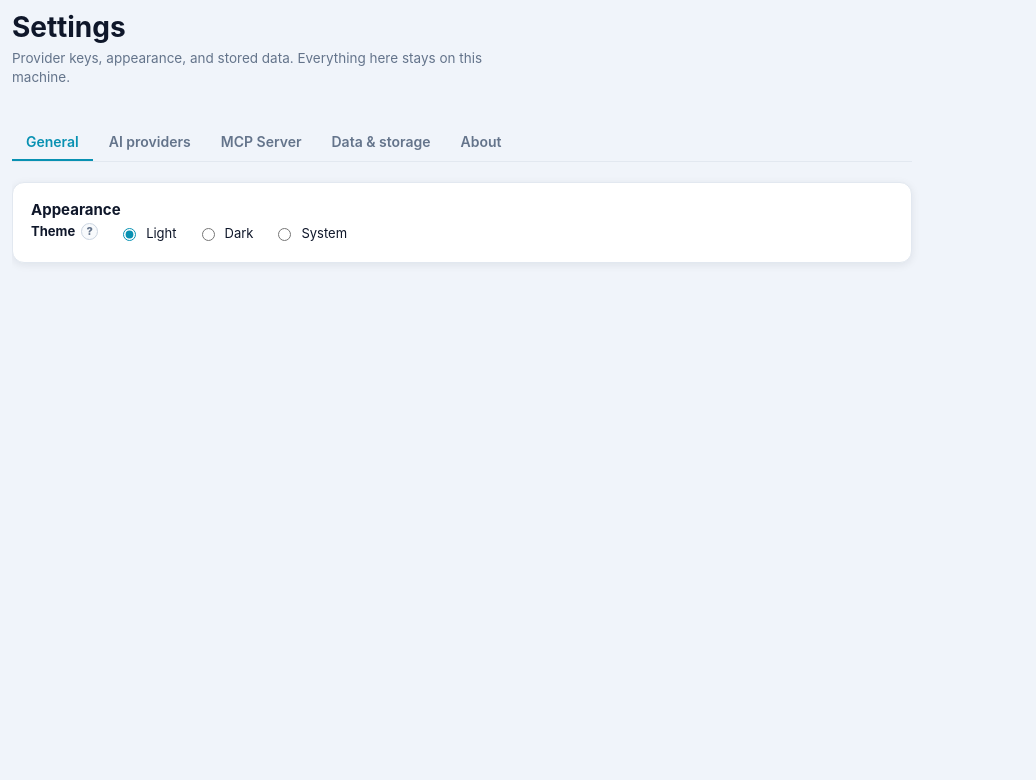
SettingsPage › Chat history › deletes every conversation once confirmed
What coordinates should you click on to do the following:
click the tab "Data & storage"
I would click on:
 (381, 142)
Its box is [318,124,445,161].
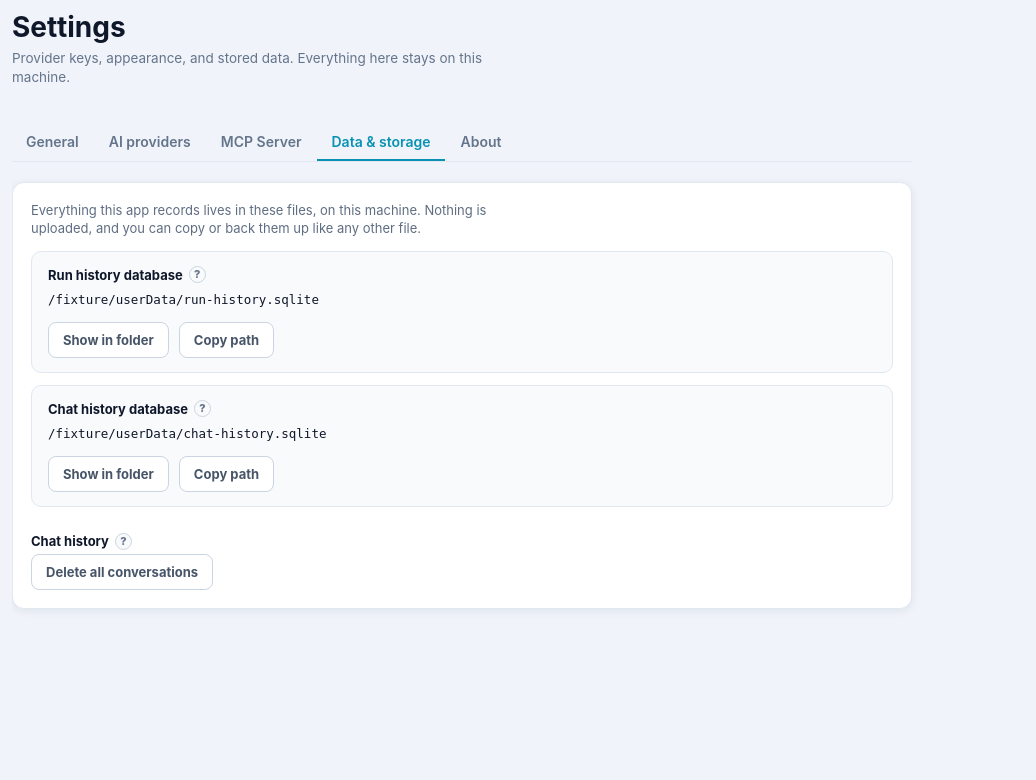
What coordinates should you click on to do the following:
click the button "Delete all conversations"
I would click on:
 (122, 572)
Its box is [31,554,213,590].
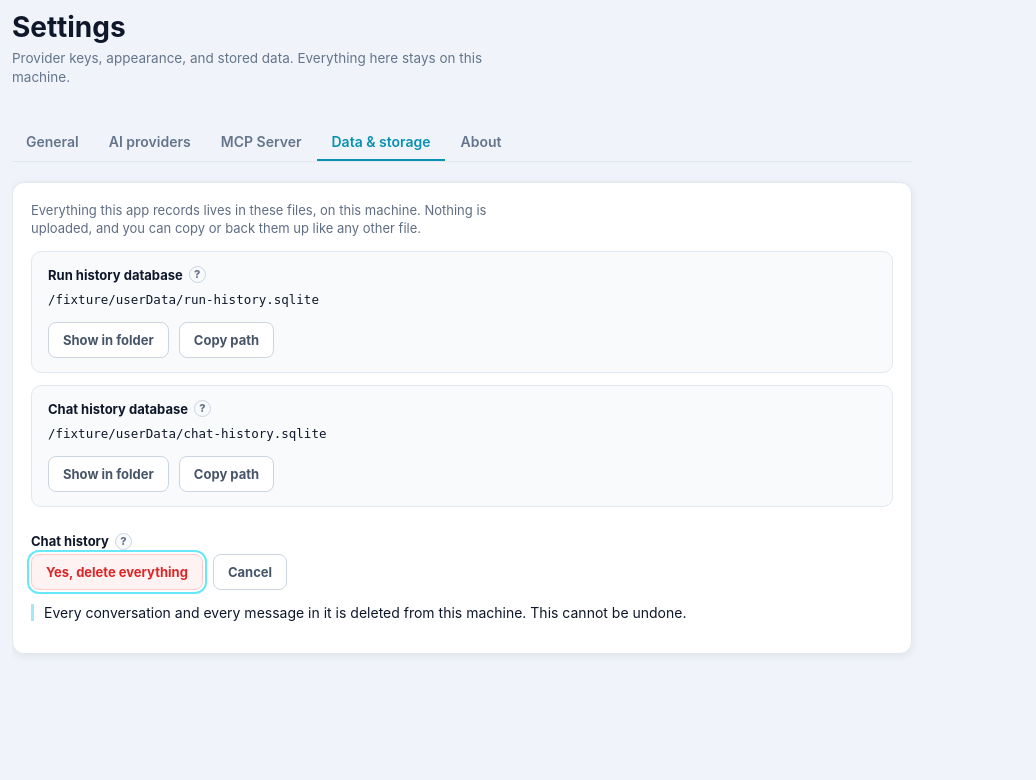
What coordinates should you click on to do the following:
click the button "Yes, delete everything"
I would click on:
 (117, 572)
Its box is [31,554,203,590].
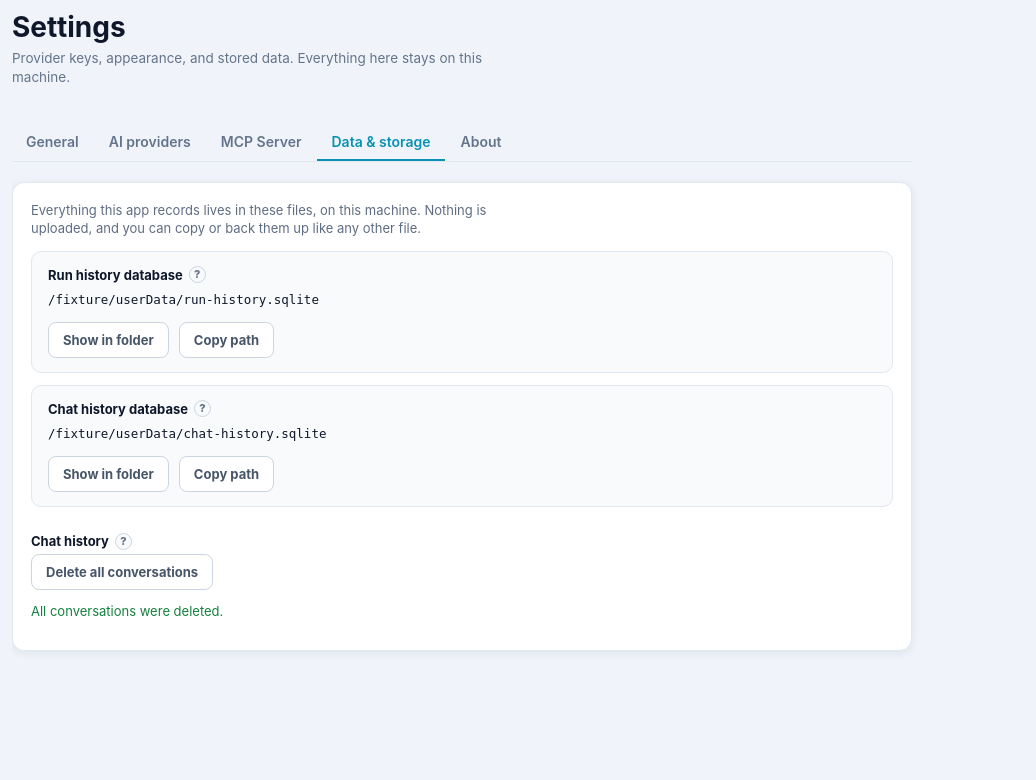
Expected: the message shows "conversations were deleted", [31,603,223,619]
